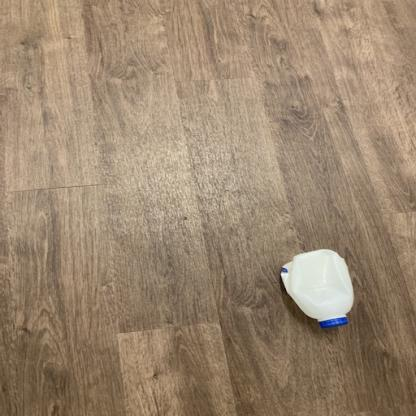trash: (280, 249, 355, 330)
